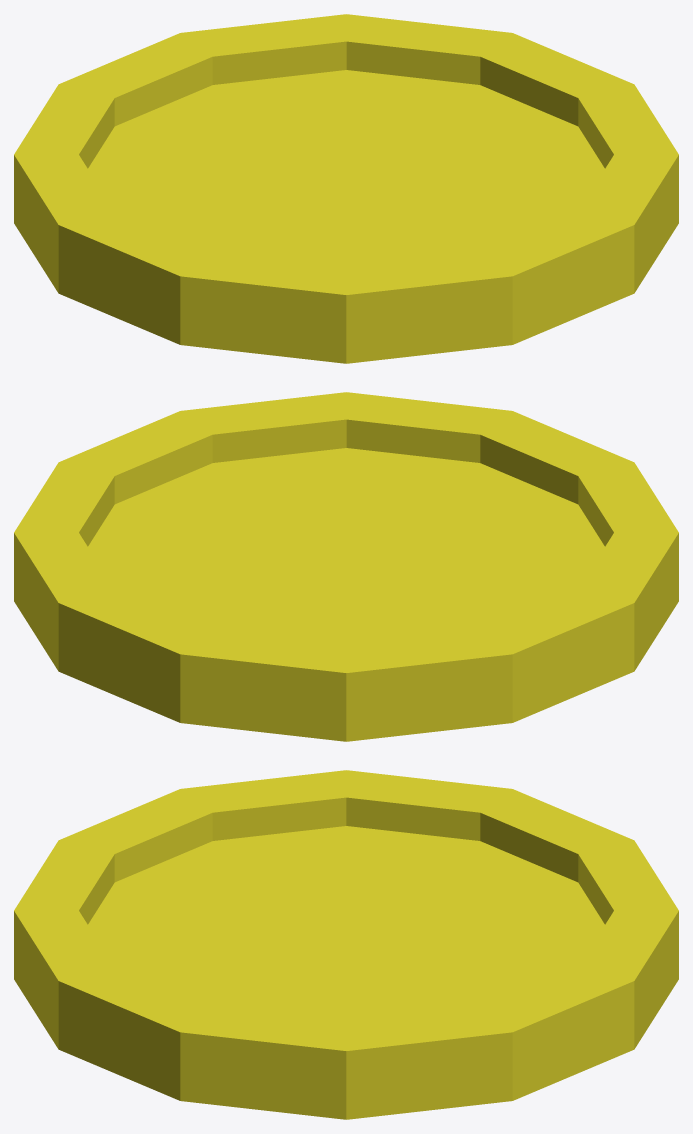
The model's file is coin.fbx.
3 renders of one model, top to bottom at view 1: azimuth 30°, elevation 25°; view 2: azimuth 150°, elevation 25°; view 3: azimuth 270°, elevation 25°, orthographic.
Parts seen in each view (by area): view 1: Cylinder; view 2: Cylinder; view 3: Cylinder.
Boxes of the visible parts, <box> form: Cylinder: <box>14,14,678,363</box>; Cylinder: <box>14,392,678,741</box>; Cylinder: <box>14,770,678,1119</box>.
Bounding box in the file's own units: 200 × 22.79 × 200.
